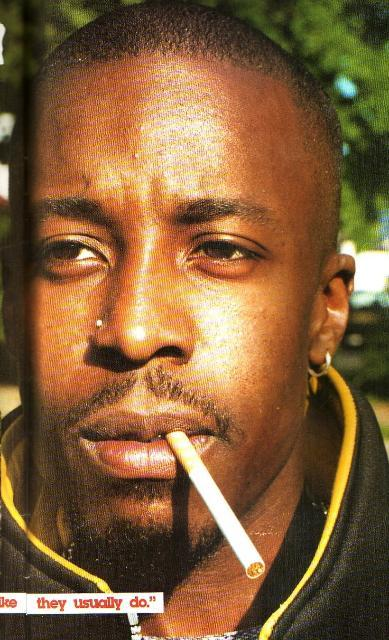SafeDriving: (175, 215, 282, 282), (33, 210, 124, 286)
Smoking: (168, 432, 266, 582)
